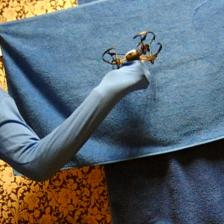drone: (102, 30, 164, 71)
